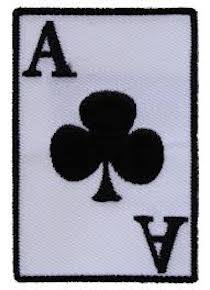AceOfClubs: (11, 5, 198, 284)
